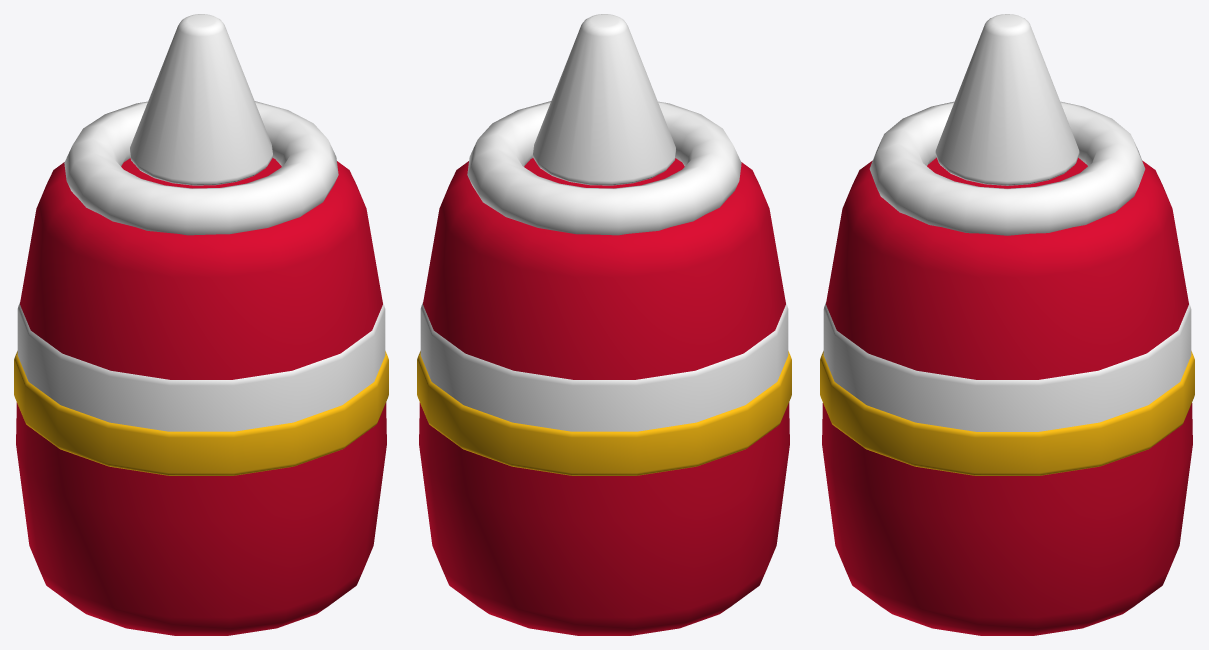
Rendered from ketchup.gltf.
The picture shows the model from 3 angles, left to right: view 1: azimuth 30°, elevation 25°; view 2: azimuth 150°, elevation 25°; view 3: azimuth 270°, elevation 25°; orthographic projection.
Visible parts, largest first — view 1: Ketchup_Bottle; view 2: Ketchup_Bottle; view 3: Ketchup_Bottle.
Boxes of the visible parts, x1=… form: Ketchup_Bottle: x1=14, y1=14, x2=388, y2=635; Ketchup_Bottle: x1=417, y1=14, x2=791, y2=635; Ketchup_Bottle: x1=820, y1=14, x2=1194, y2=635.
Bounding box in the file's own units: 0.2088 × 0.3475 × 0.212.
